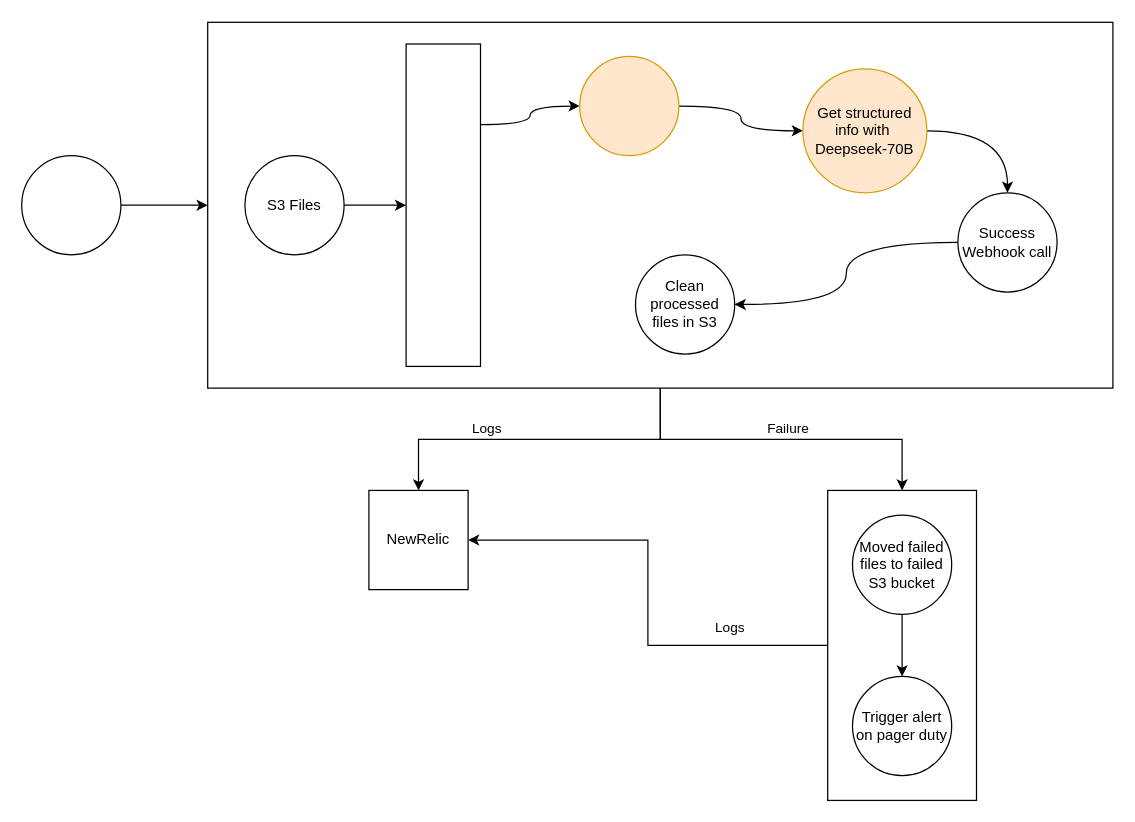
Image size: 1135x822. Some labels were removed from this diagram. The shapes that lost their labels are listed below. From the top down, each one's box as (x1, y1, x2, y2) in pixels, then its label:
(578, 55, 679, 156): Parse with Docling
(20, 154, 121, 255): Every Day
(405, 43, 480, 366): For each file
